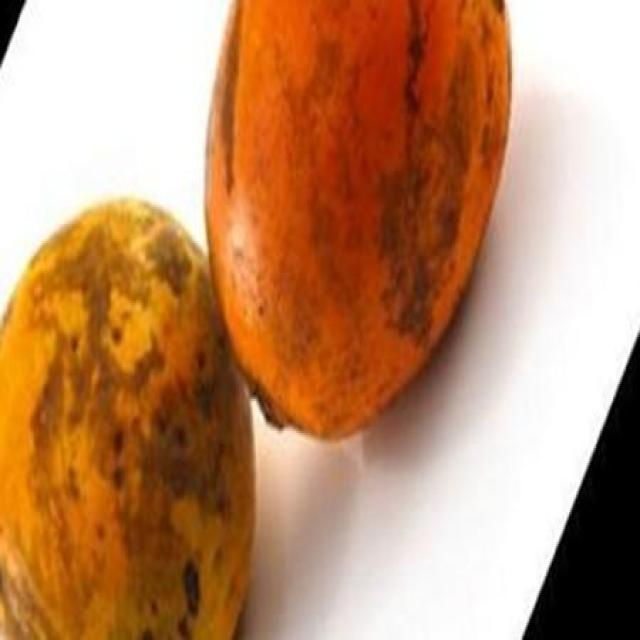good: (203, 0, 513, 444), (0, 198, 257, 638)
